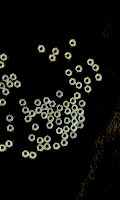nut: (5, 140, 13, 148), (29, 152, 37, 160), (43, 143, 51, 151), (36, 137, 44, 145), (28, 134, 36, 142), (24, 115, 32, 123), (34, 99, 42, 107), (56, 104, 64, 112), (0, 53, 8, 61), (69, 78, 77, 86), (92, 64, 100, 72), (69, 39, 77, 47), (37, 45, 45, 53), (22, 150, 29, 158), (53, 143, 61, 150), (60, 140, 68, 147), (6, 125, 14, 132), (31, 124, 39, 131), (6, 115, 13, 123), (61, 133, 69, 140), (56, 127, 63, 135), (70, 125, 78, 132), (46, 122, 54, 129), (71, 118, 79, 125), (64, 117, 71, 125), (78, 115, 86, 122), (29, 110, 36, 118), (22, 107, 29, 115), (19, 99, 27, 106), (47, 115, 55, 122), (41, 112, 48, 120), (35, 107, 43, 114), (54, 111, 61, 119), (41, 104, 49, 111), (64, 108, 72, 115), (71, 105, 79, 112), (43, 97, 51, 104), (79, 100, 86, 108), (74, 92, 81, 100), (2, 89, 10, 96), (6, 81, 14, 88), (76, 82, 83, 90), (84, 77, 91, 85), (95, 74, 103, 81), (65, 69, 72, 77), (75, 66, 83, 73), (87, 59, 95, 66), (65, 52, 72, 60), (37, 145, 44, 152), (44, 136, 51, 143), (70, 132, 77, 139), (63, 126, 70, 133), (77, 122, 84, 129), (47, 108, 54, 115), (71, 112, 78, 119), (63, 101, 70, 108), (49, 101, 56, 108), (56, 91, 63, 98), (70, 98, 77, 105), (14, 81, 21, 88), (2, 75, 9, 82), (85, 86, 92, 93), (49, 55, 56, 62), (52, 48, 59, 55), (55, 119, 63, 125), (77, 109, 85, 115), (0, 145, 6, 152), (0, 99, 6, 106), (0, 83, 6, 90), (0, 61, 4, 69)
